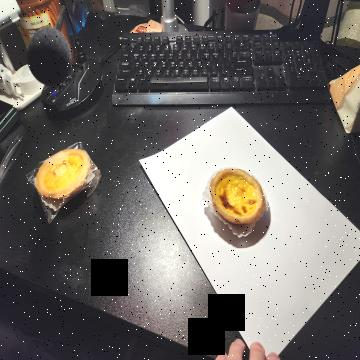EggTart: (208, 165, 268, 229)
